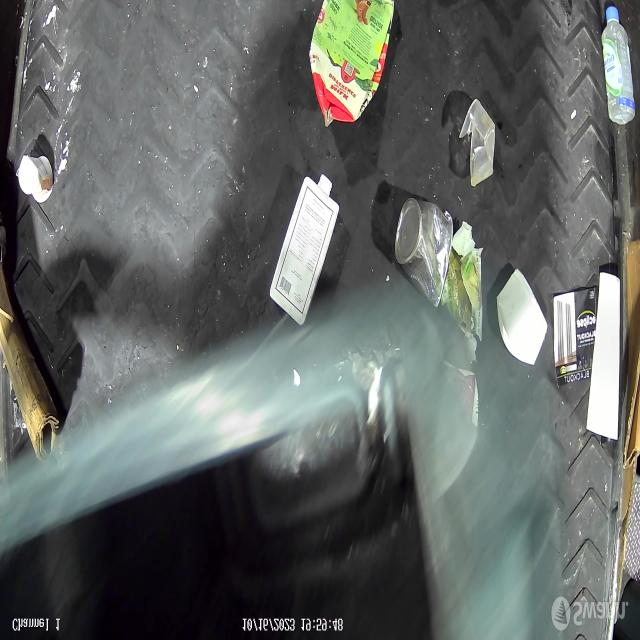can: (395, 198, 454, 310)
non_white_jug: (310, 0, 394, 127)
plastic_bottle: (602, 5, 636, 127)
